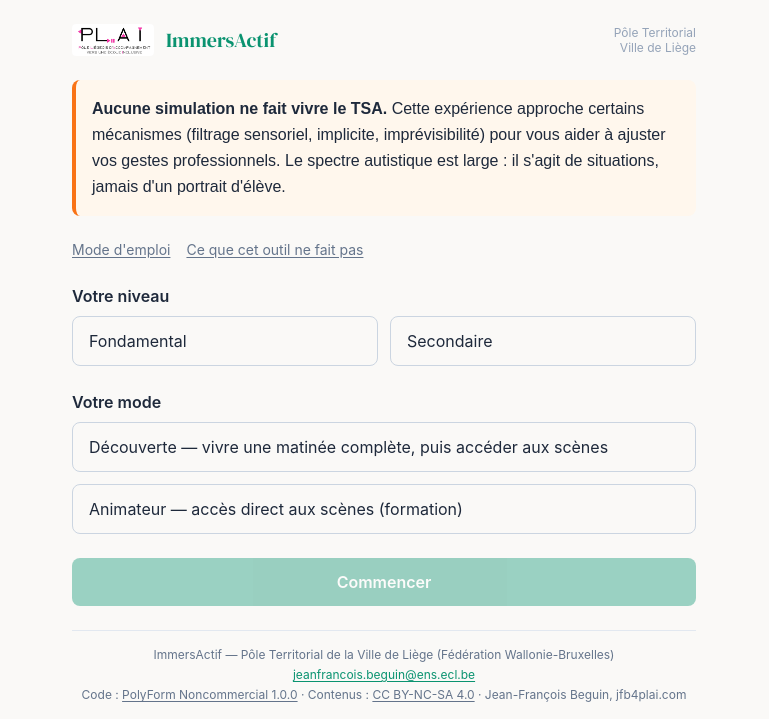
Scenario: App flow › entry → start (découverte/fondamental) lands in the first scene
This screenshot has width=769, height=719.
Step 1. Click the button "Fondamental" → (138, 341), box [72,316,378,366]
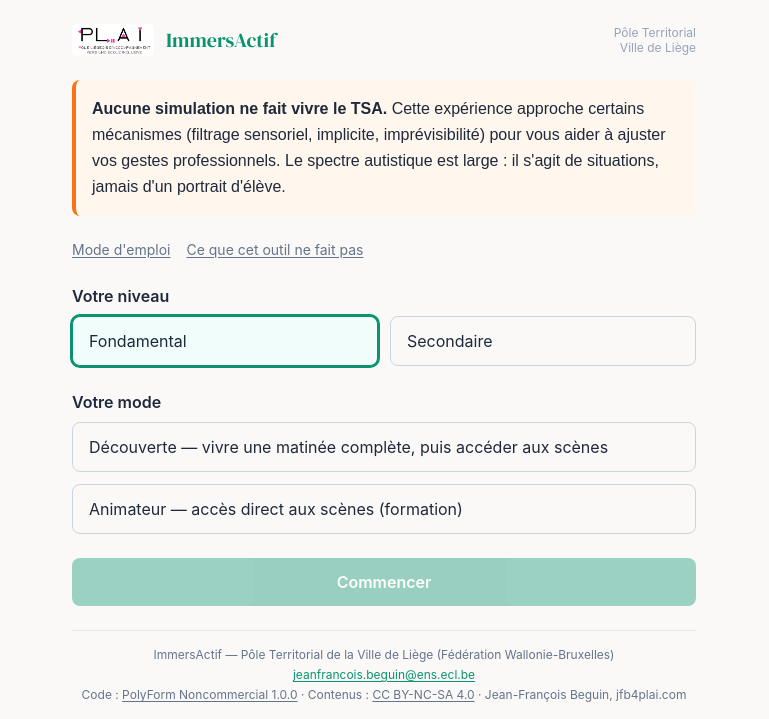
Step 2. Click the button "Découverte" → (384, 447), box [72,422,696,472]
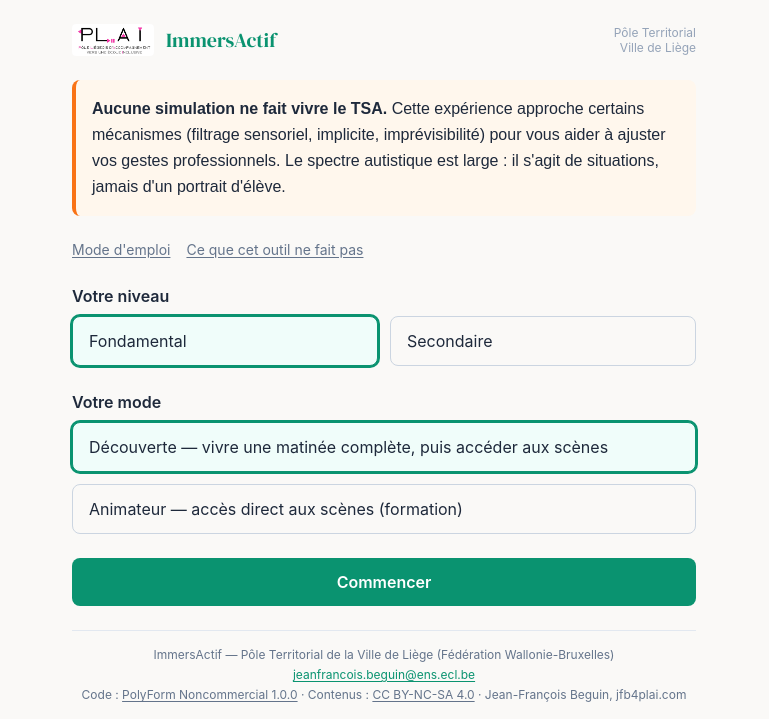
Step 3. Click the button "Commencer" → (384, 582), box [72,558,696,606]
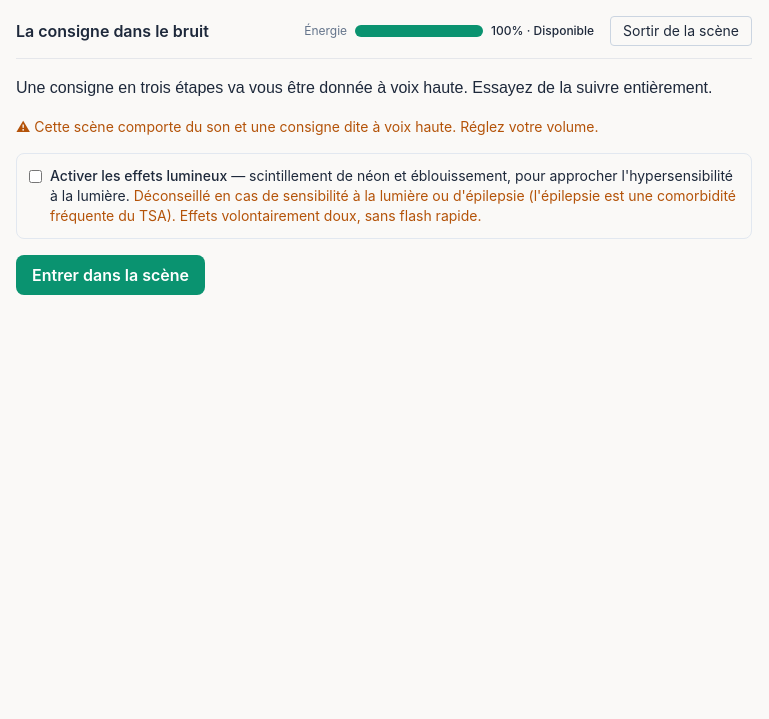
Check: the heading "La consigne dans le bruit" is shown, box [16,19,209,43]
Check: the button "Sortir de la scène" is shown, box [610,16,752,46]
